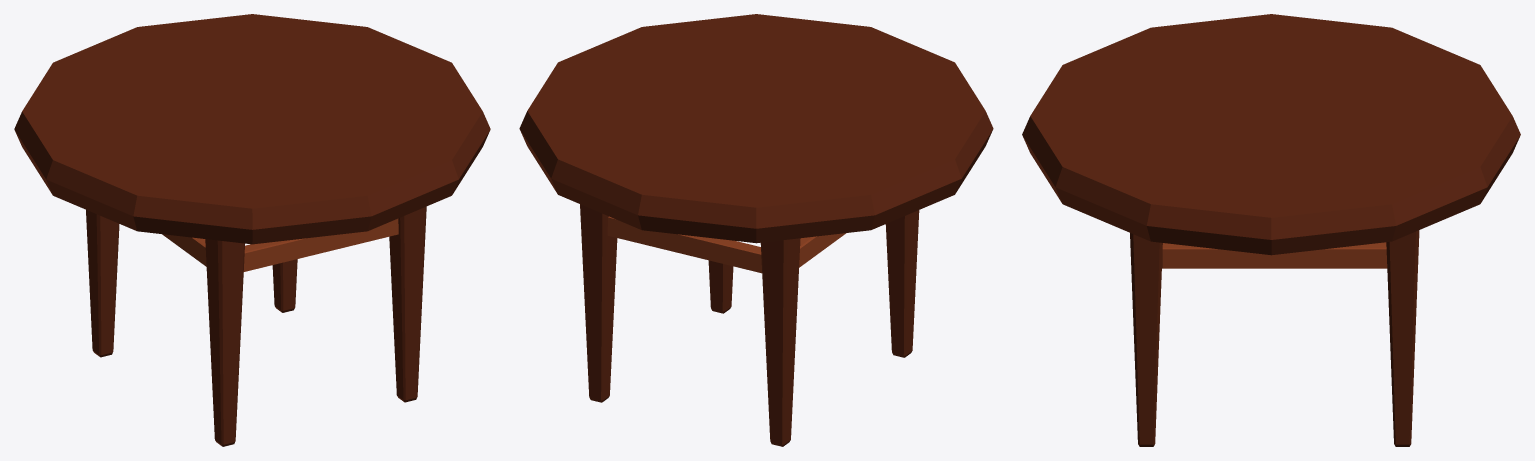
Rendered from hh_round_table.glb.
3 renders of one model, left to right at view 1: azimuth 30°, elevation 25°; view 2: azimuth 150°, elevation 25°; view 3: azimuth 270°, elevation 25°, orthographic. The views are drawn at different scales.
Parts seen in each view (by area): view 1: Rounded_table_B; view 2: Rounded_table_B; view 3: Rounded_table_B.
Boxes of the visible parts, <box> form: Rounded_table_B: <box>14,14,490,446</box>; Rounded_table_B: <box>519,14,993,446</box>; Rounded_table_B: <box>1022,14,1520,446</box>.
Bounding box in the file's own units: 1.15 × 0.7102 × 1.15.
